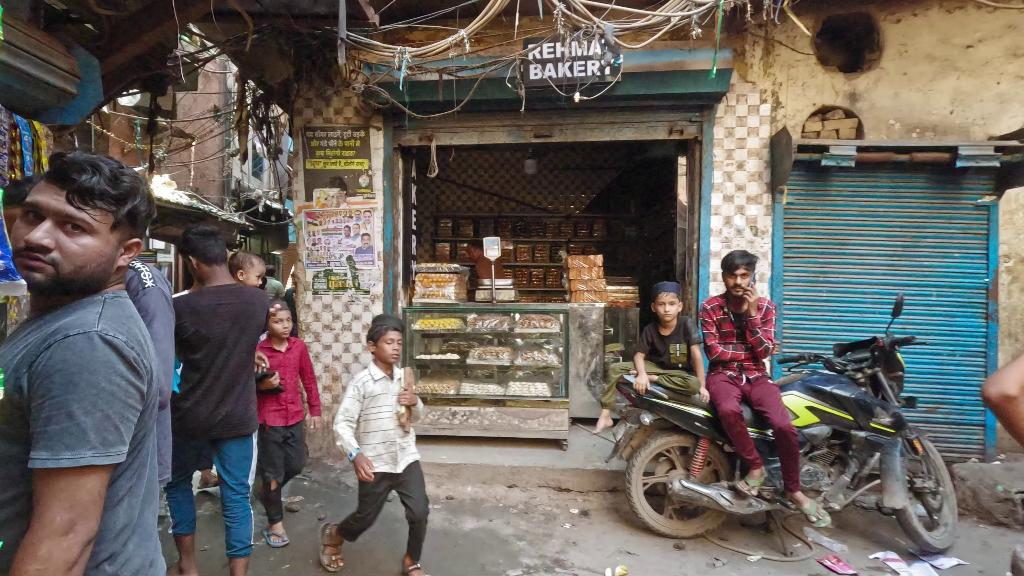garbage: (913, 555, 968, 576), (876, 549, 911, 576), (817, 553, 853, 576), (605, 567, 628, 576)
